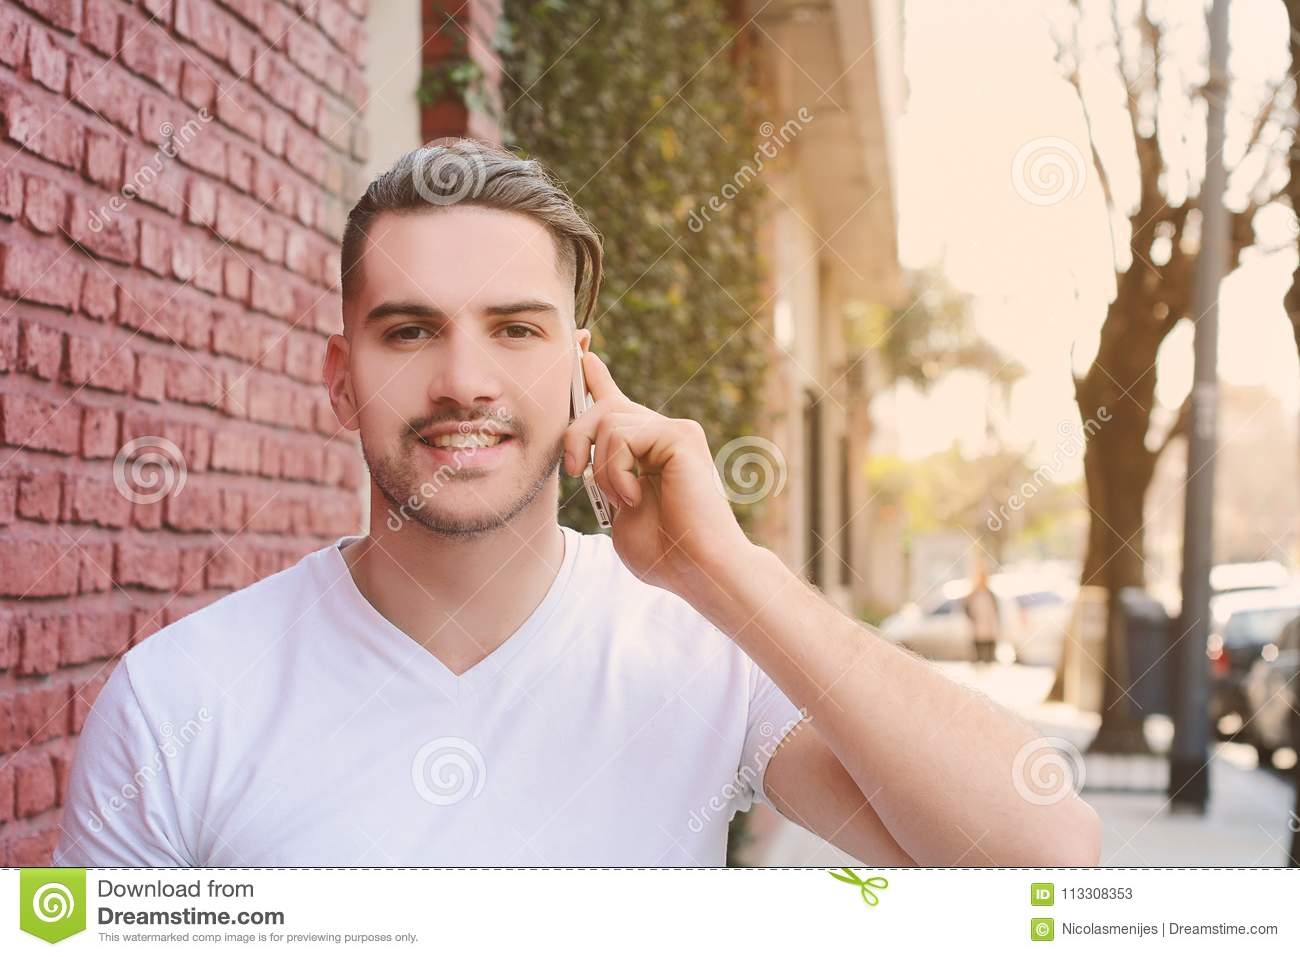phone: (562, 330, 636, 540)
talk: (355, 290, 756, 606)
